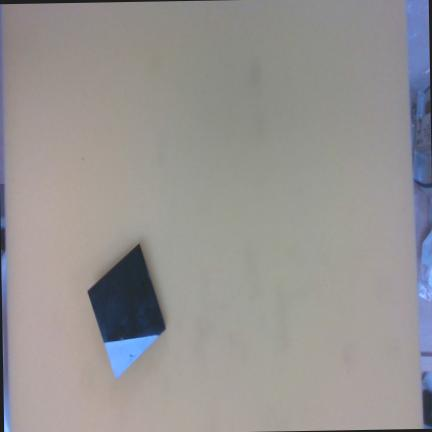tile: (78, 244, 175, 379)
